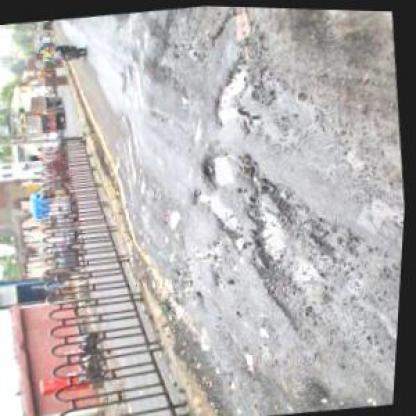pothole: (240, 168, 330, 333), (207, 56, 259, 127), (188, 182, 246, 237), (198, 147, 242, 189), (178, 256, 202, 297), (227, 6, 254, 42), (165, 206, 187, 228)
